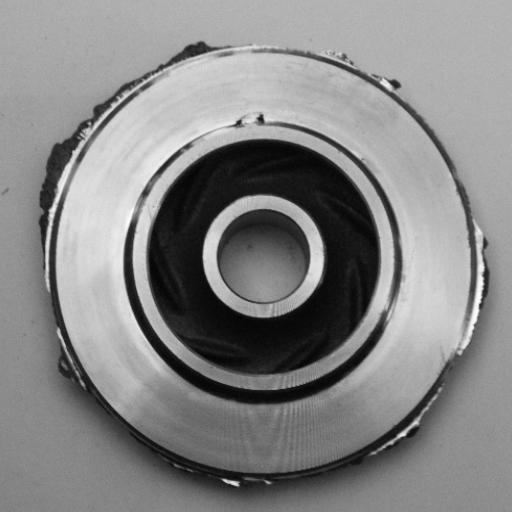casting_with_burr: (34, 33, 491, 490)
crack: (215, 101, 282, 139)
